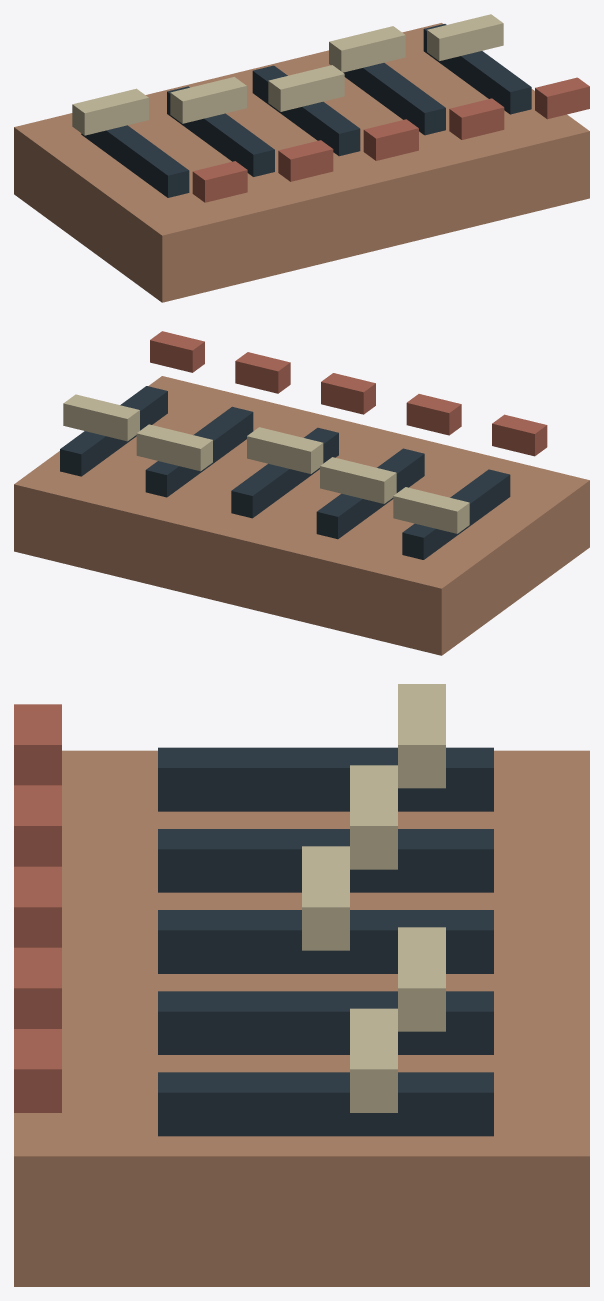
Rendered from music-09.glb.
The picture shows the model from 3 angles, top to bottom: view 1: azimuth 30°, elevation 25°; view 2: azimuth 150°, elevation 25°; view 3: azimuth 270°, elevation 25°; orthographic projection. The views are drawn at different scales.
Parts seen in each view (by area): view 1: Audio mixer; view 2: Audio mixer; view 3: Audio mixer.
Part boxes in pixels (left/top/right/bottom): Audio mixer: left=14, top=14, right=589, bottom=302; Audio mixer: left=14, top=331, right=589, bottom=655; Audio mixer: left=14, top=684, right=589, bottom=1286.
Bounding box in the file's own units: 1.6 × 0.4 × 0.96.
